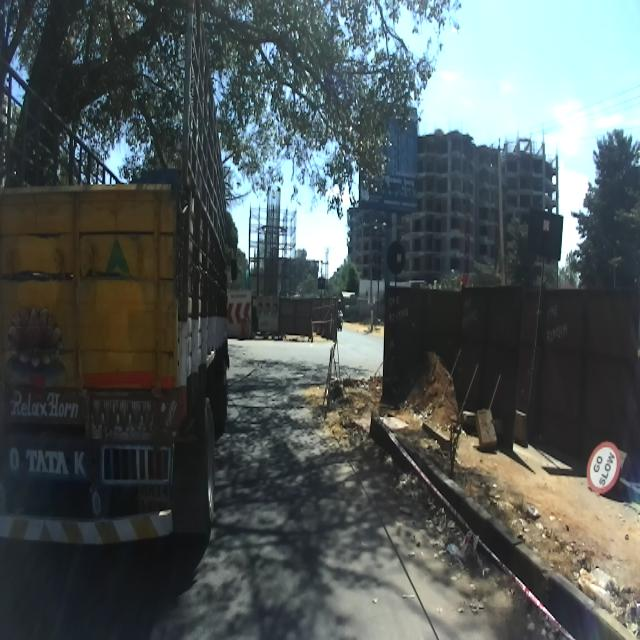truck ahead at: (0, 0, 232, 600)
